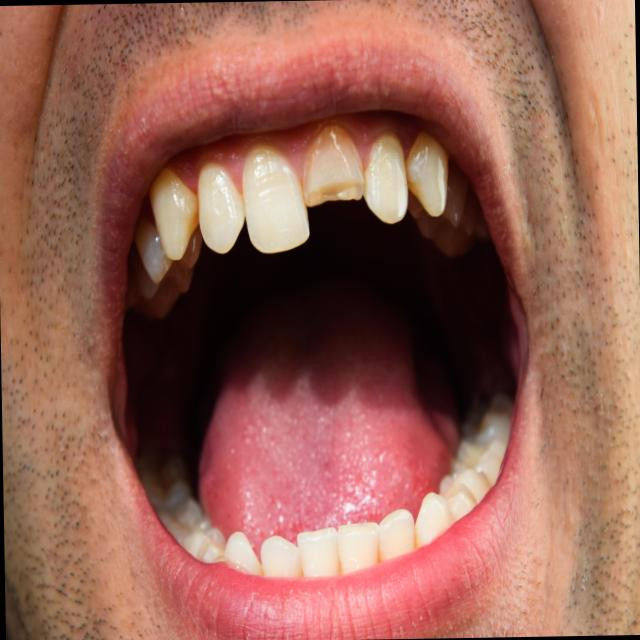Crack: (308, 181, 364, 207)
Tooth: (242, 146, 309, 253), (302, 126, 364, 207), (148, 168, 199, 261), (197, 163, 244, 254), (362, 134, 408, 223), (414, 164, 468, 237), (404, 131, 448, 219), (134, 217, 173, 283), (337, 521, 379, 574), (297, 526, 339, 576), (378, 509, 415, 562), (260, 535, 301, 576), (179, 223, 202, 269)
